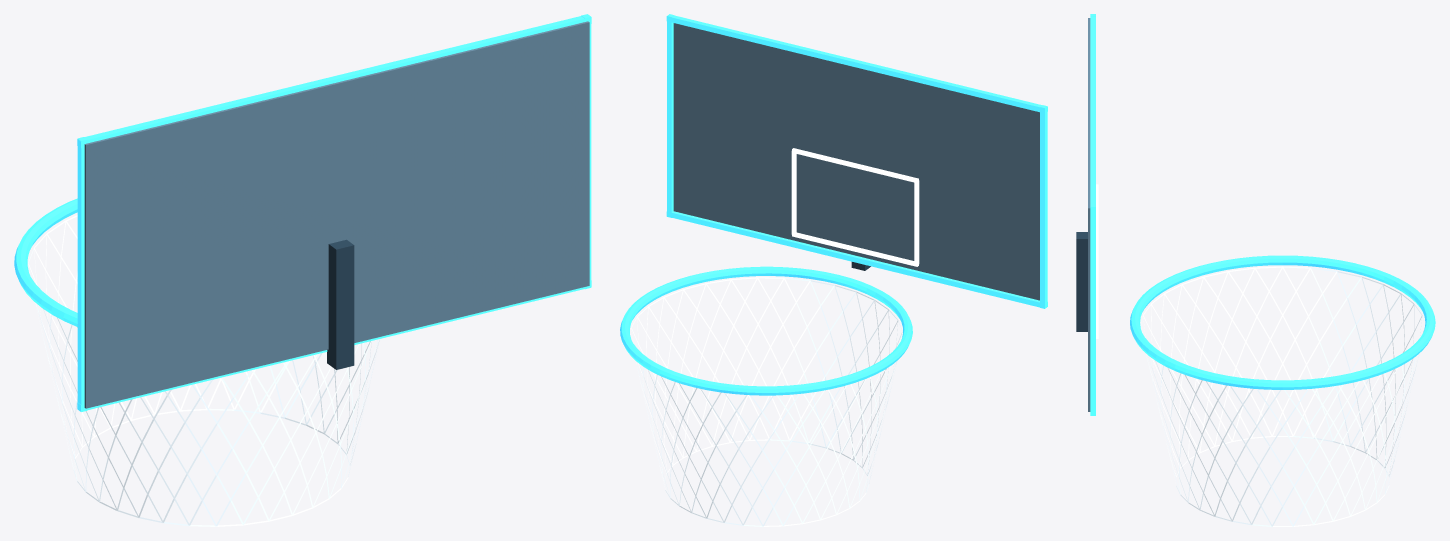
Rendered from hoops-basket-v2.glb.
3 renders of one model, left to right at view 1: azimuth 30°, elevation 25°; view 2: azimuth 150°, elevation 25°; view 3: azimuth 270°, elevation 25°, orthographic. The views are drawn at different scales.
Parts seen in each view (by area): view 1: Hoops_Backboard, Hoops_Net, Hoops_Backboard_Frame, Hoops_Backboard_Bracket, Hoops_Rim; view 2: Hoops_Backboard, Hoops_Net, Hoops_Backboard_Frame, Hoops_Rim, Hoops_Shooting_Square; view 3: Hoops_Net, Hoops_Rim, Hoops_Backboard_Frame, Hoops_Backboard_Bracket, Hoops_Backboard, Hoops_Shooting_Square.
Boxes of the visible parts, bbox=[...] form: Hoops_Backboard: bbox=[84, 21, 589, 408]; Hoops_Net: bbox=[28, 215, 380, 526]; Hoops_Backboard_Frame: bbox=[77, 14, 591, 411]; Hoops_Backboard_Bracket: bbox=[327, 239, 354, 369]; Hoops_Rim: bbox=[14, 198, 77, 326]; Hoops_Backboard: bbox=[673, 23, 1039, 300]; Hoops_Net: bbox=[630, 277, 902, 526]; Hoops_Backboard_Frame: bbox=[666, 14, 1047, 308]; Hoops_Rim: bbox=[620, 266, 912, 395]; Hoops_Shooting_Square: bbox=[791, 148, 919, 266]; Hoops_Net: bbox=[1140, 266, 1424, 526]; Hoops_Rim: bbox=[1130, 255, 1435, 389]; Hoops_Backboard_Frame: bbox=[1090, 14, 1095, 415]; Hoops_Backboard_Bracket: bbox=[1076, 232, 1087, 331]; Hoops_Backboard: bbox=[1088, 18, 1090, 411]; Hoops_Shooting_Square: bbox=[1096, 184, 1098, 338].
Size of the model in its own units: 14.2 by 12.77 by 11.18.
